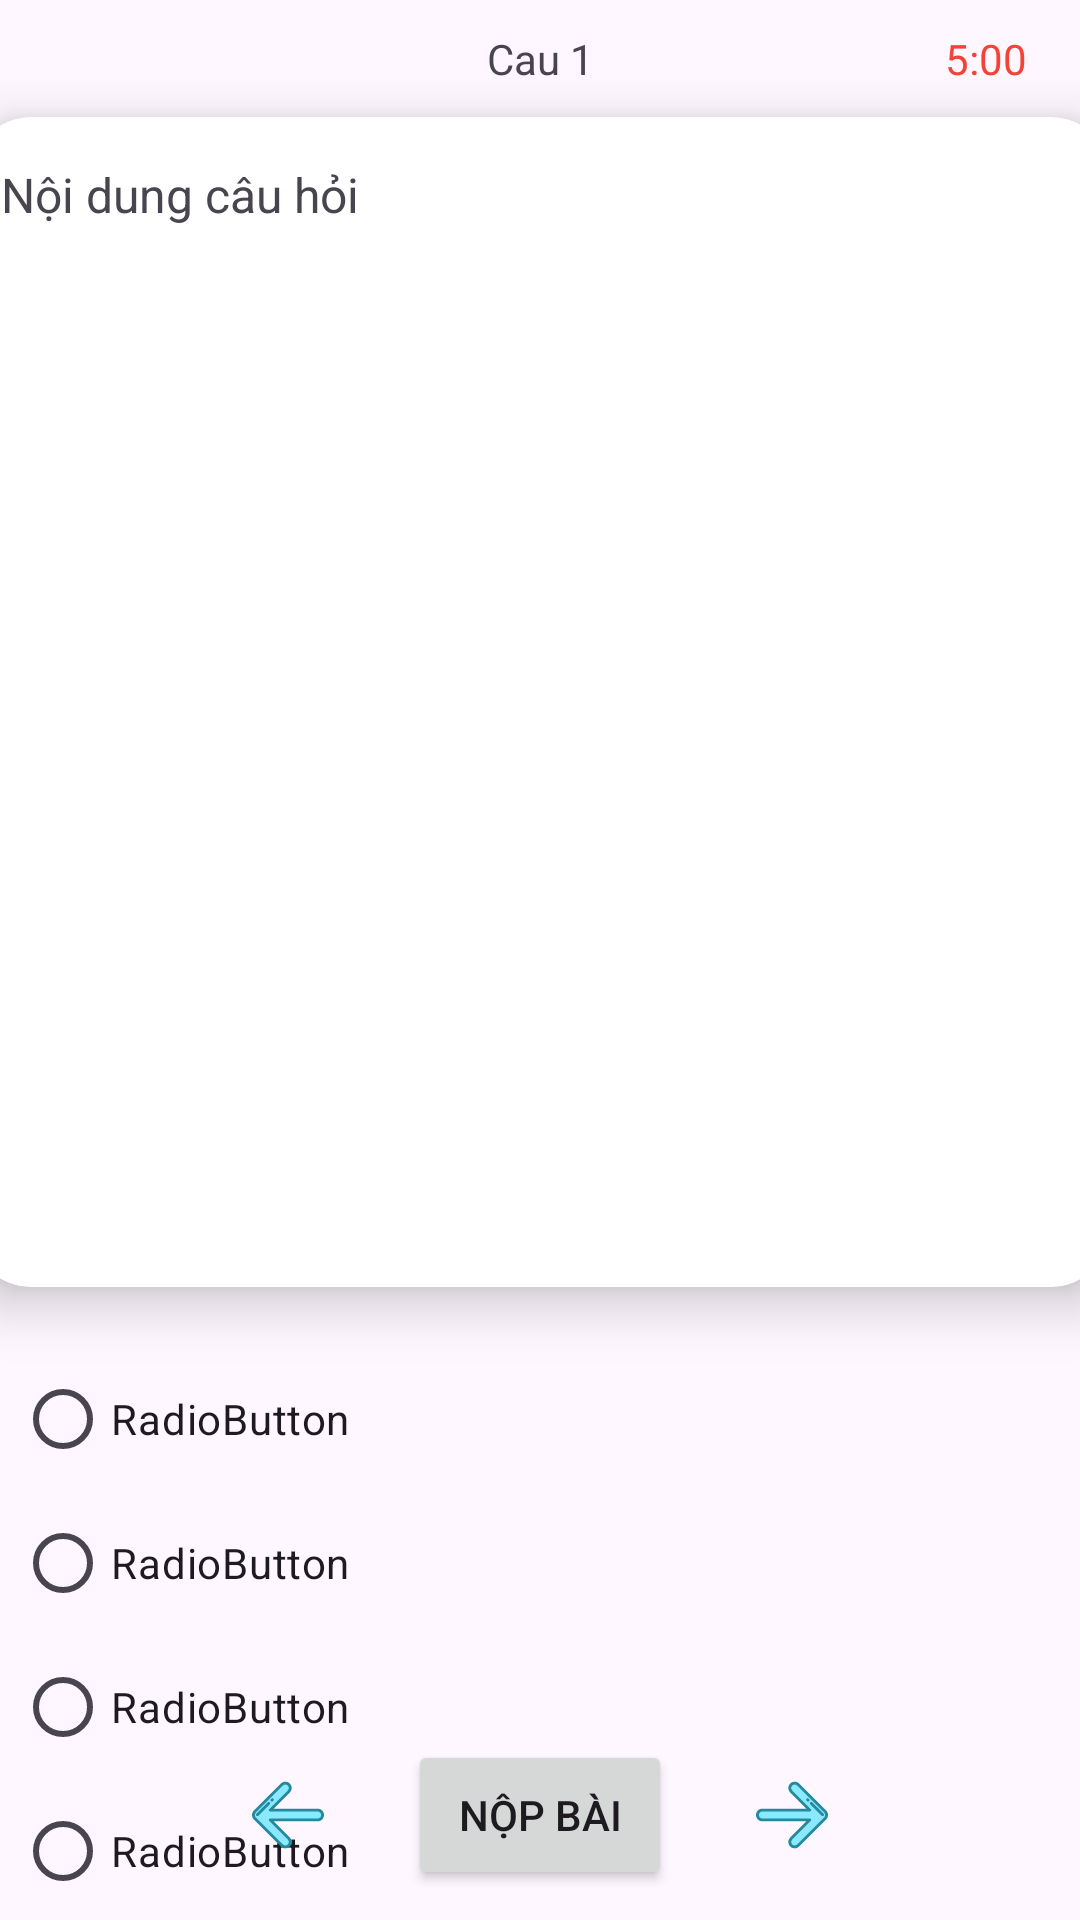

Screen size 1080 × 1920. Icon name, then its center in pixels as point (x, y):
next: point (792, 1815)
